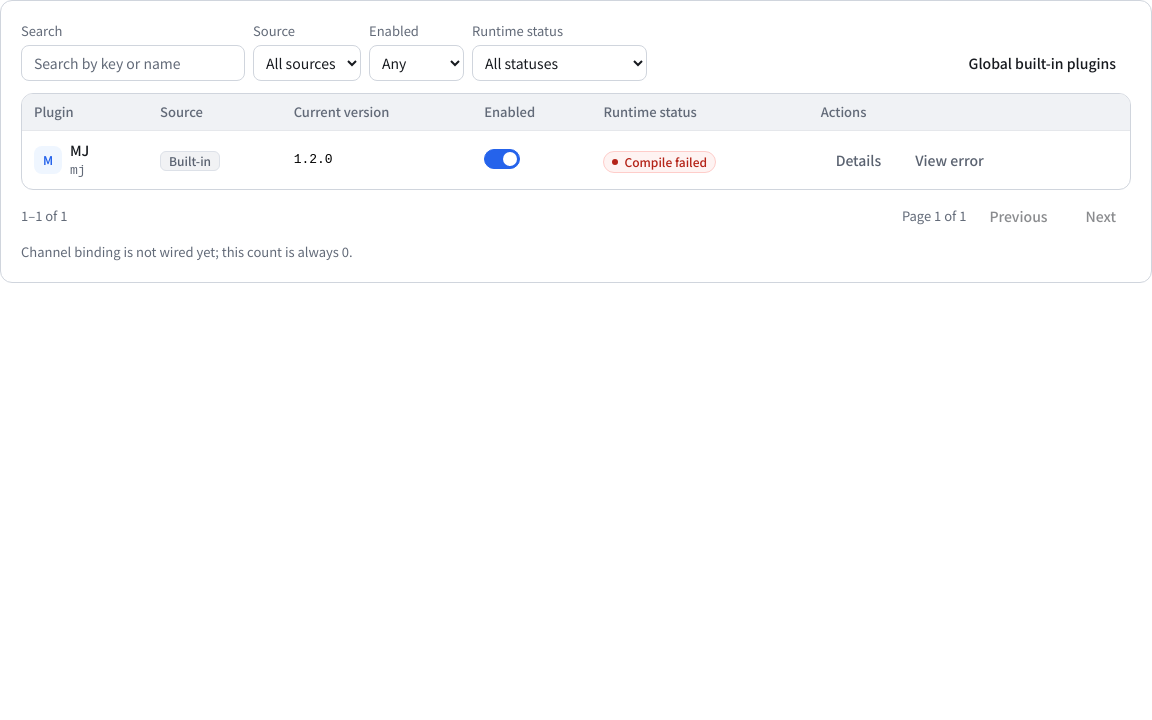
installed tab (F-08-28) › opens the detail drawer on the integrity tab from a compile failure
Click the button "View error" at (950, 160), box [900, 142, 999, 178]
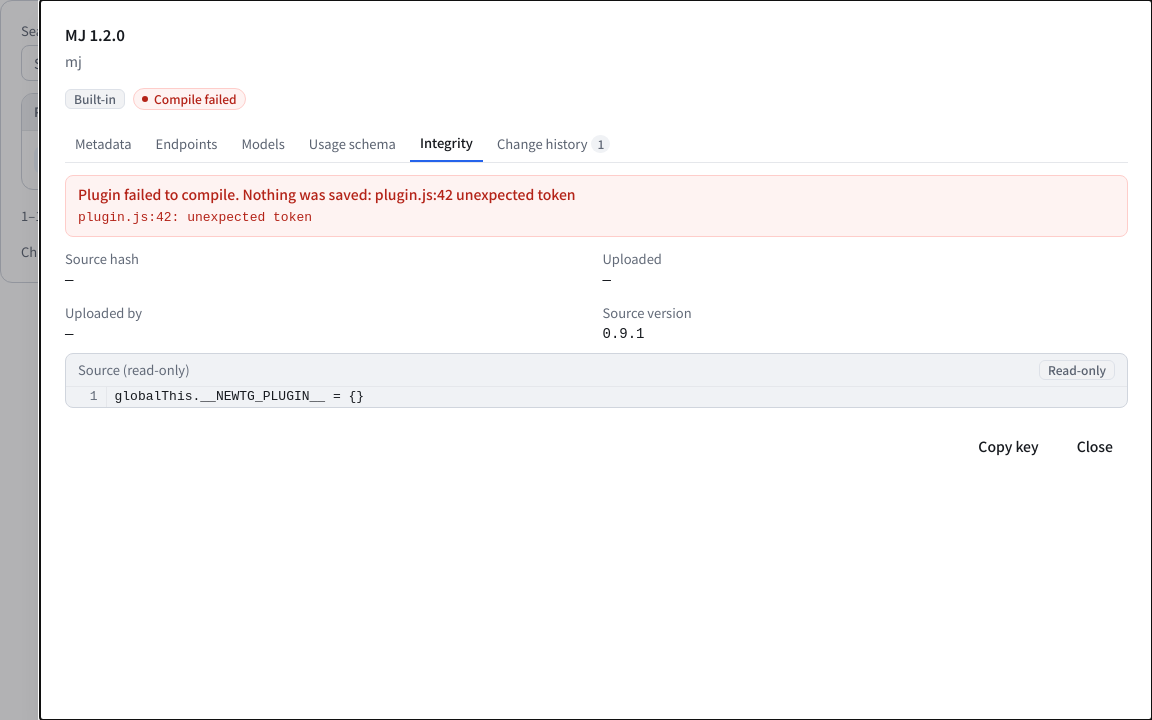
Expected: the tab "Integrity" is shown, [410, 126, 483, 162]
Expected: the text "Read-only" is shown, [1039, 360, 1115, 380]
Expected: the text "plugin.js:42: unexpected token" is shown, [78, 210, 312, 225]
